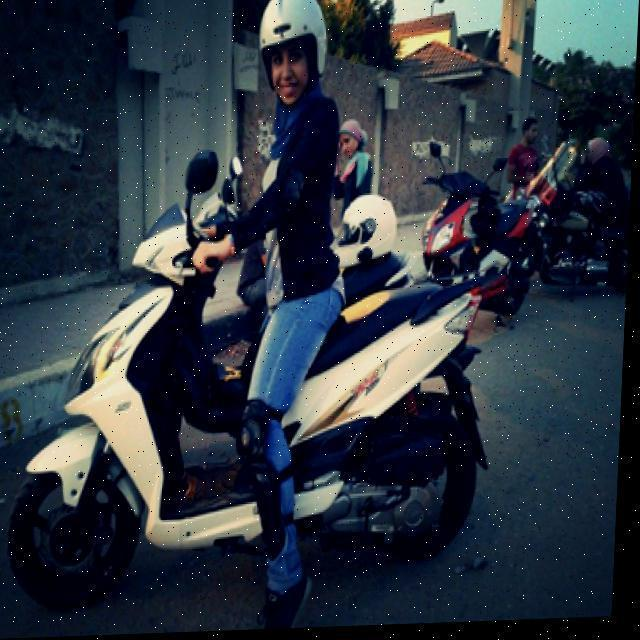Helmet: (242, 0, 348, 121)
